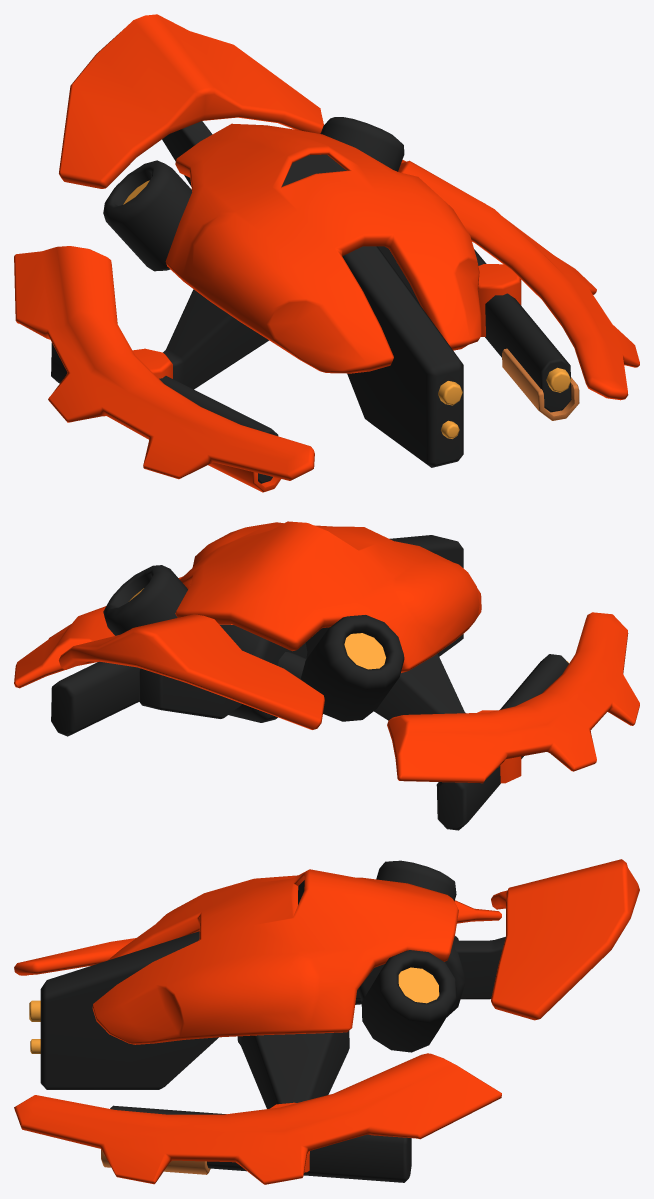
Rendered from drone_001.fbx.
3 renders of one model, top to bottom at view 1: azimuth 30°, elevation 25°; view 2: azimuth 150°, elevation 25°; view 3: azimuth 270°, elevation 25°, orthographic. The views are drawn at different scales.
Parts seen in each view (by area): view 1: drone_001; view 2: drone_001; view 3: drone_001.
Part boxes in pixels (bbox=[...]): drone_001: bbox=[14, 14, 639, 492]; drone_001: bbox=[14, 521, 639, 830]; drone_001: bbox=[14, 859, 639, 1184].
Size of the model in its own units: 627 by 667 by 274.
